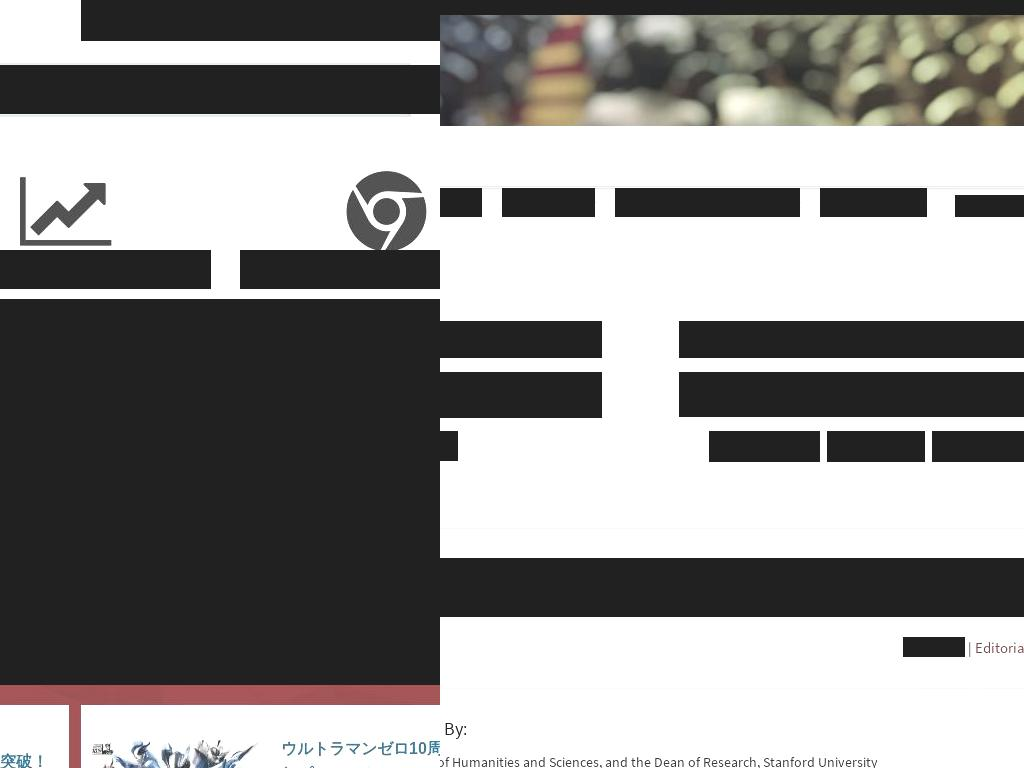button: (0, 299, 440, 685), (679, 372, 1024, 417), (615, 188, 800, 217), (709, 431, 820, 462), (820, 188, 927, 217), (827, 431, 925, 462), (932, 431, 1024, 462), (502, 188, 595, 217), (407, 65, 440, 114), (440, 188, 482, 217), (227, 658, 239, 670), (249, 658, 261, 670), (271, 658, 283, 670), (293, 658, 305, 670), (315, 658, 327, 670)
field: (0, 65, 409, 114), (440, 372, 602, 418), (955, 195, 1024, 217)
heading: (440, 718, 1024, 740), (679, 321, 1024, 358), (440, 0, 1024, 15), (0, 250, 211, 289), (240, 250, 440, 289), (440, 321, 602, 358), (281, 740, 440, 768), (0, 753, 48, 768)
image: (0, 299, 440, 685), (91, 740, 261, 768)
link: (903, 637, 965, 657), (974, 637, 1024, 657)
text: (440, 558, 1024, 617), (440, 753, 1024, 768), (615, 191, 786, 214), (824, 382, 979, 407), (820, 191, 913, 214), (502, 191, 581, 214), (734, 437, 807, 456), (962, 437, 1024, 456), (858, 437, 912, 456), (424, 78, 440, 101), (964, 637, 975, 657)
